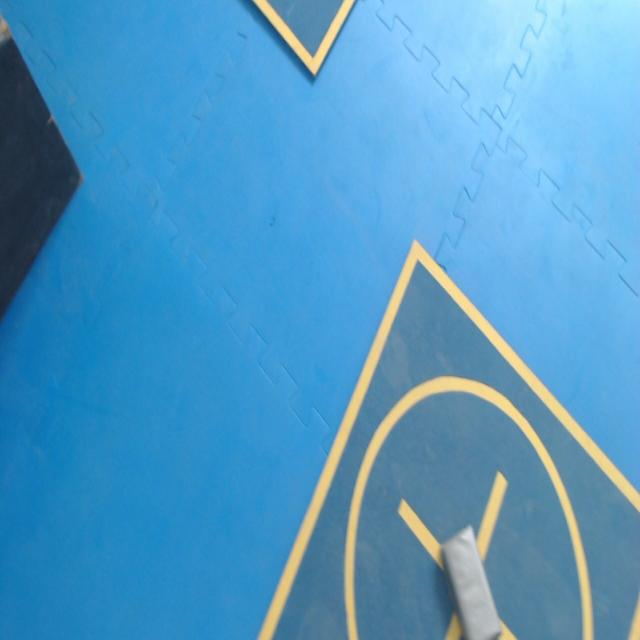esquerda: (442, 527, 500, 639)
